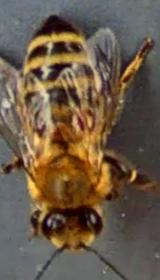varroa_mite: (72, 102, 99, 132)
